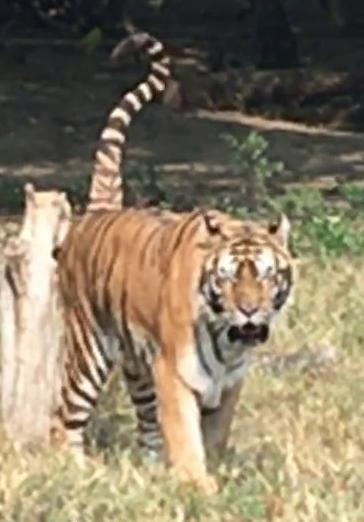tiger: (2, 41, 294, 486)
